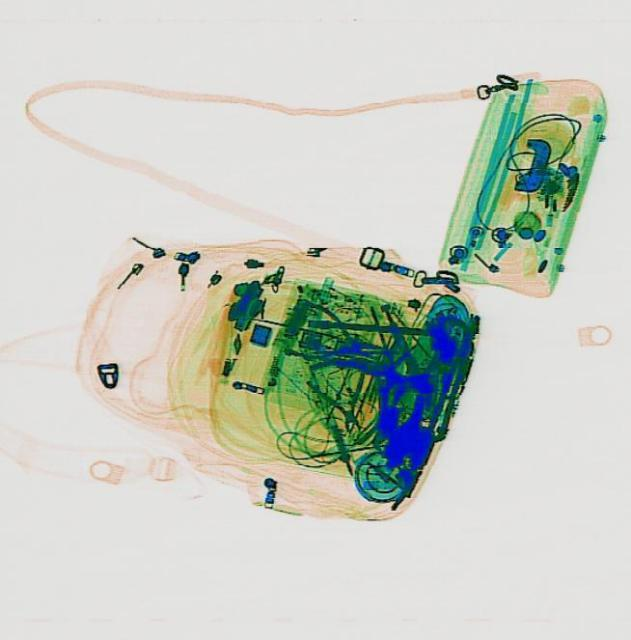Pliers: (278, 295, 391, 379)
